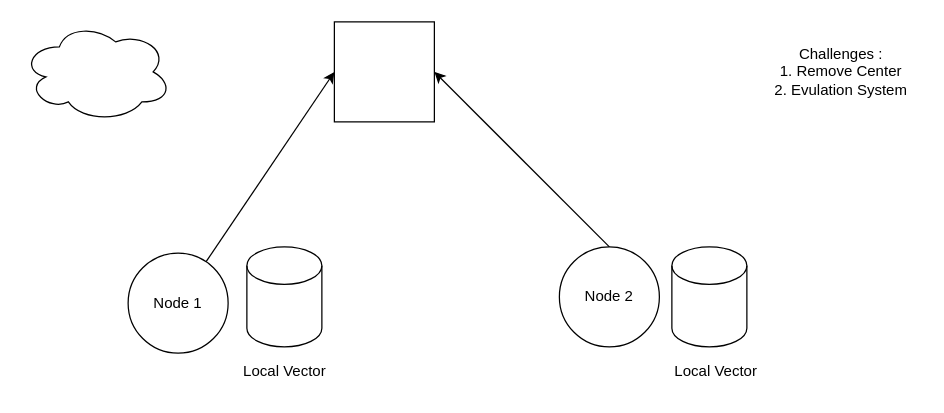
Some shapes in this 944 by 413 pixel diagram are drawn without their labels. The centre of each missing label's shape, as x and y in pixels:
Center Node: the point at 383,71
LLM: the point at 96,71
